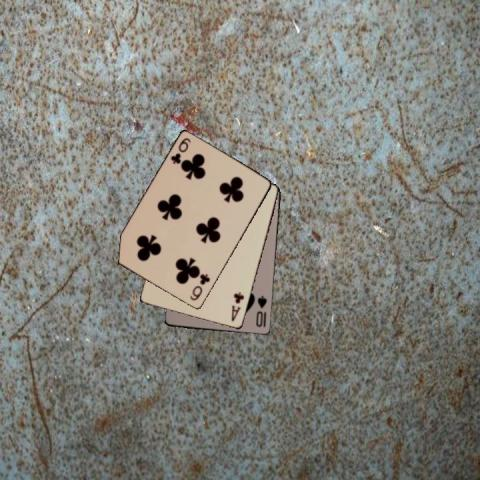10s: (253, 293, 268, 329)
6c: (167, 135, 193, 166), (187, 271, 211, 303)
Ac: (229, 289, 246, 323)
